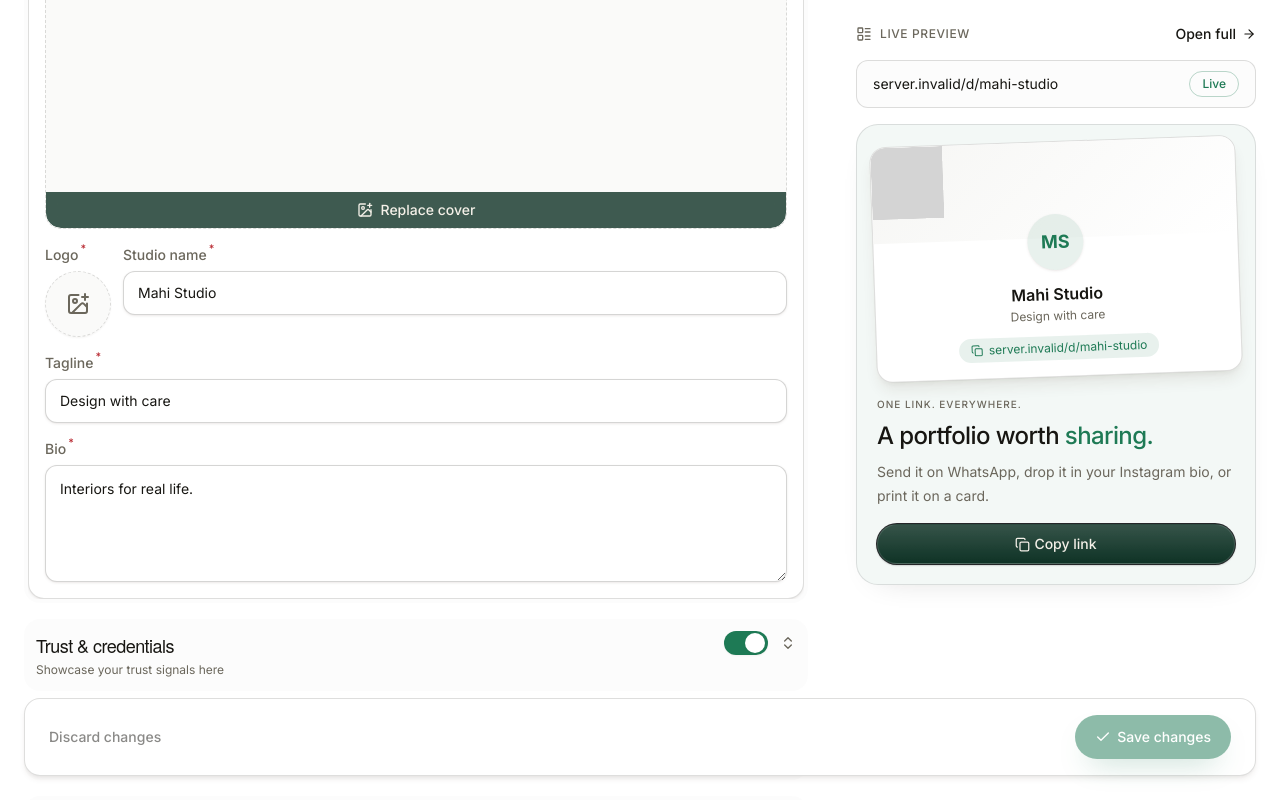
Test: DesignerPortfolioSettings › custom accent colours › also clears an unfinished colour preview when another field is discarded
(page scrolled)
Replace the text in the field with placeholder "A short tagline for your portfolio" with "Unsaved tagline" at (416, 401), box left=45, top=379, right=787, bottom=423
(page scrolled)
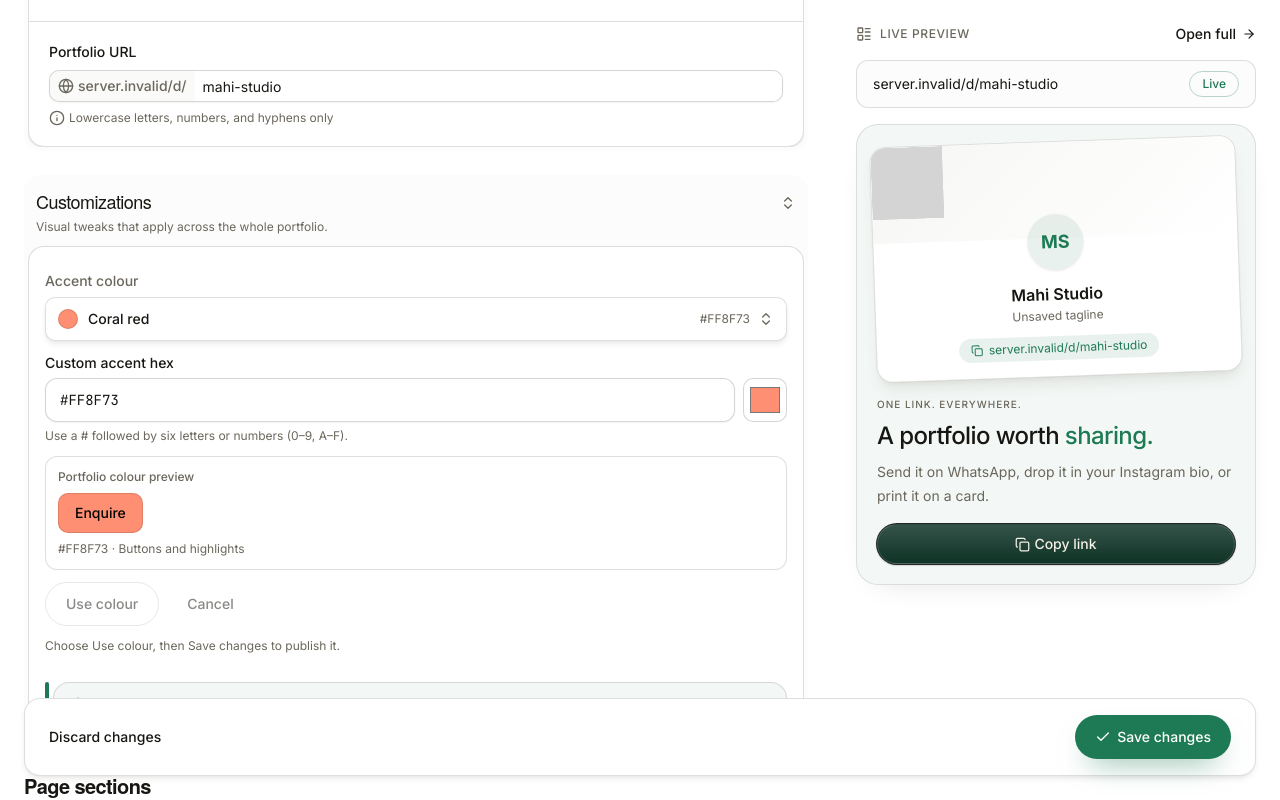
Replace the text in the field labelled "Custom accent hex" with "#ABCDEF" at (390, 400), box left=45, top=378, right=735, bottom=422
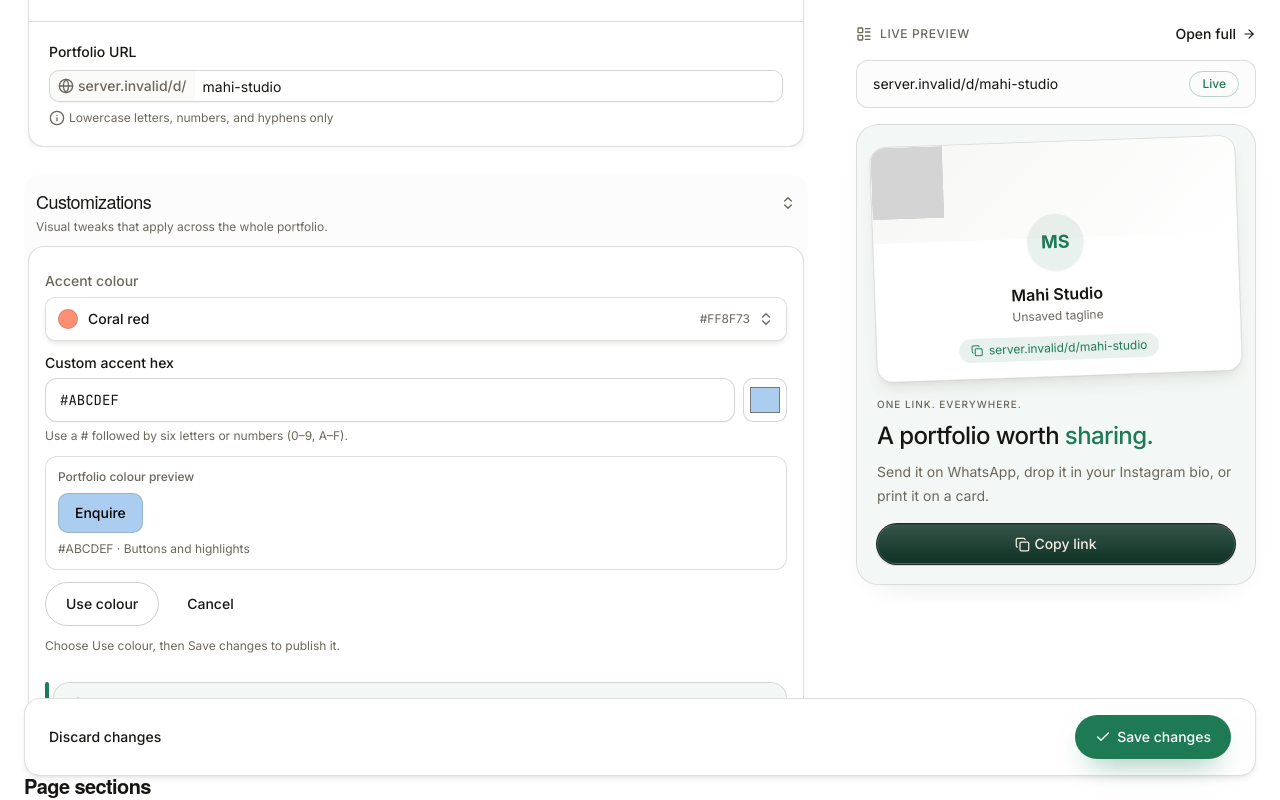
Click the button "Discard changes".
click(105, 737)  # box left=49, top=727, right=161, bottom=747
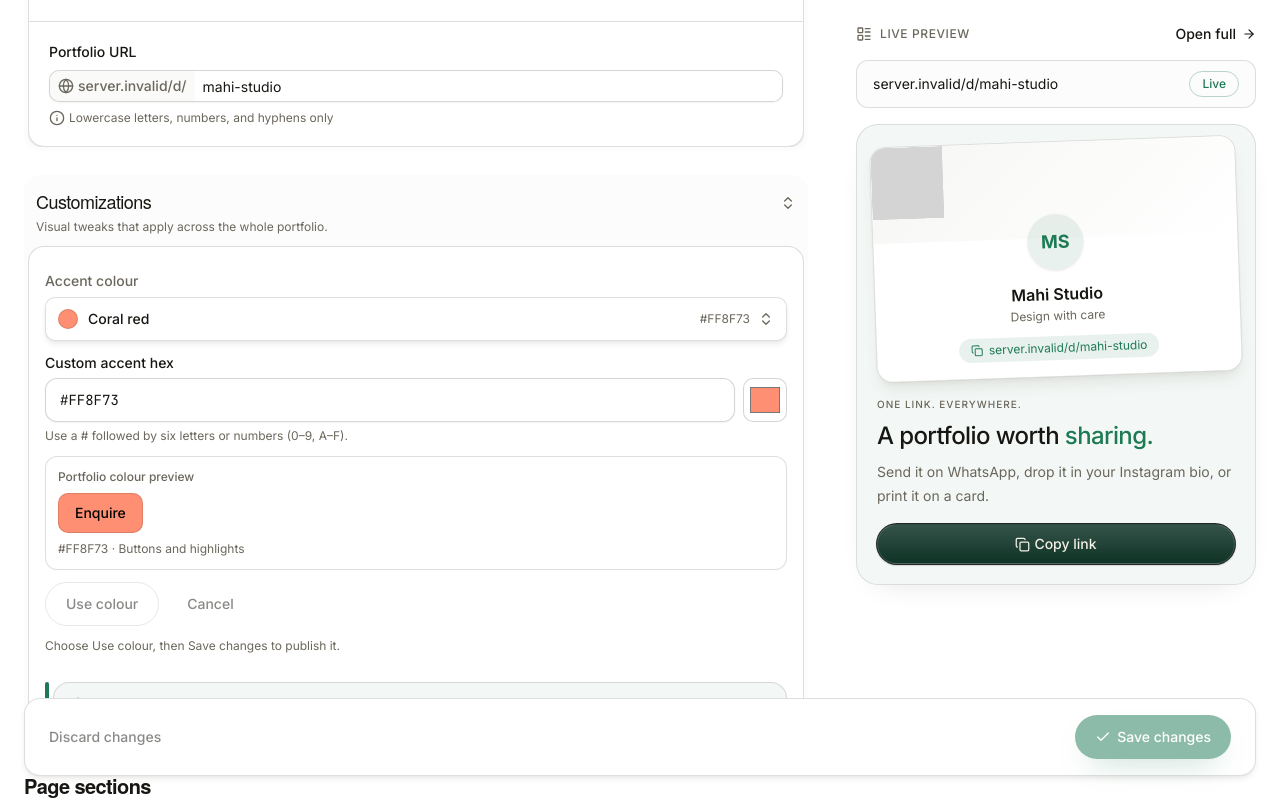
Expected: the field labelled "Custom accent hex" holds "#FF8F73", left=45, top=378, right=735, bottom=422
